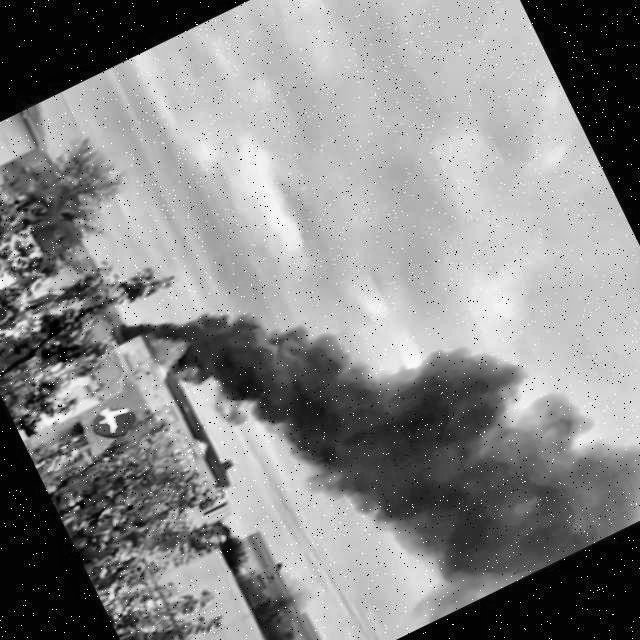Smoke: (133, 134, 640, 640)
